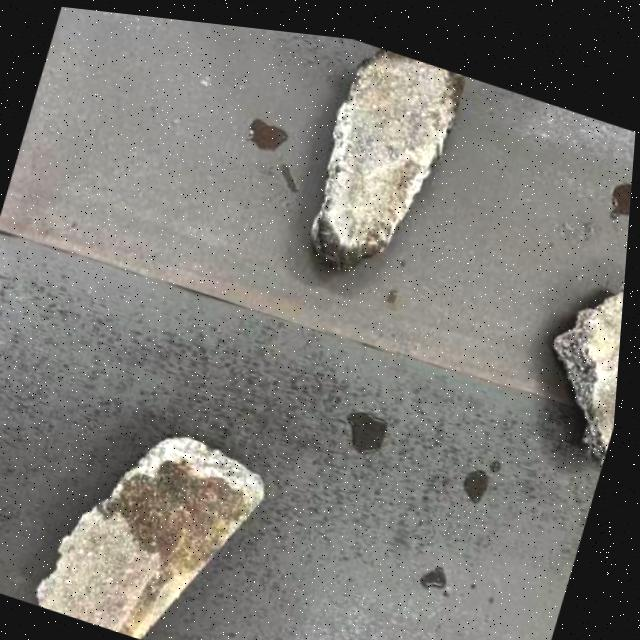Road Debris: (311, 31, 451, 259), (98, 434, 254, 572), (119, 538, 194, 640), (596, 332, 624, 441)
